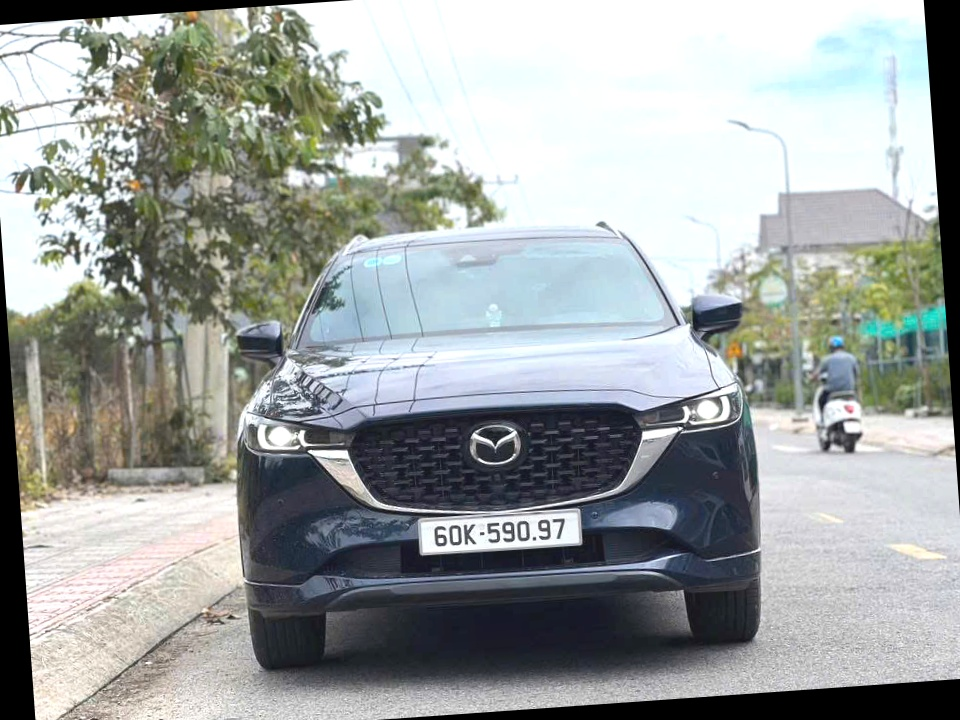Bien-so: (420, 526, 593, 578)
